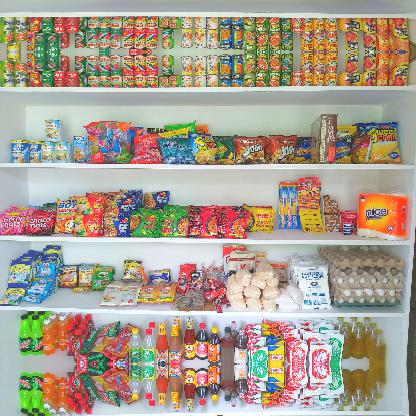Koko-Krunch: (310, 113, 336, 163)
